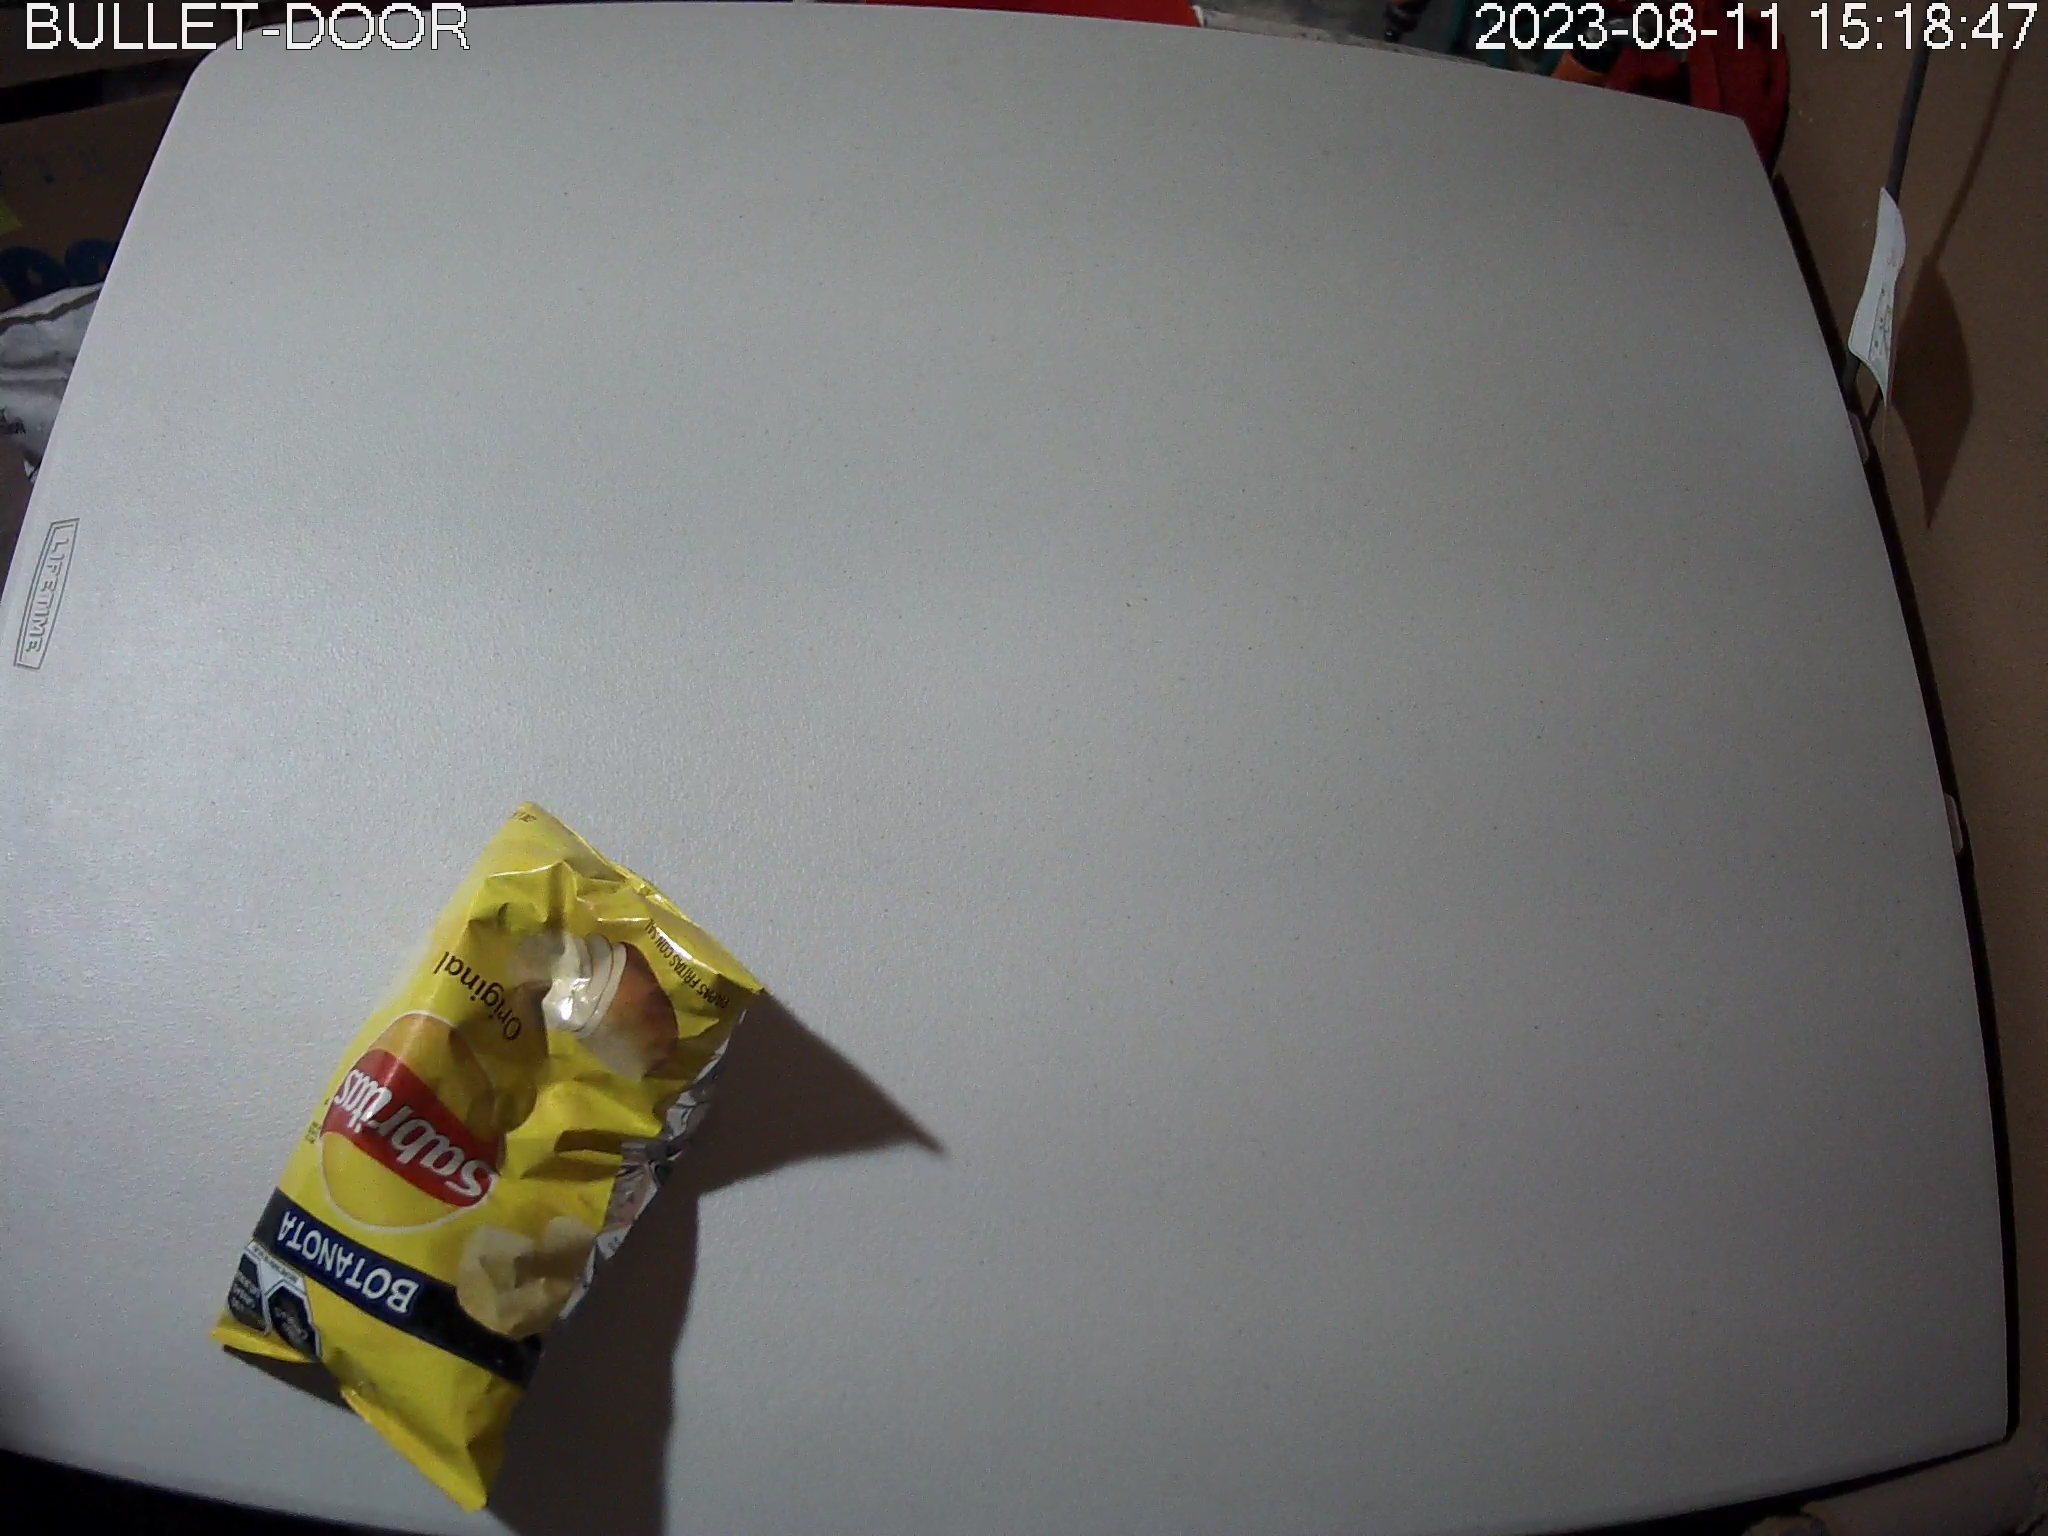Sabritas_64_F: (211, 795, 768, 1513)
